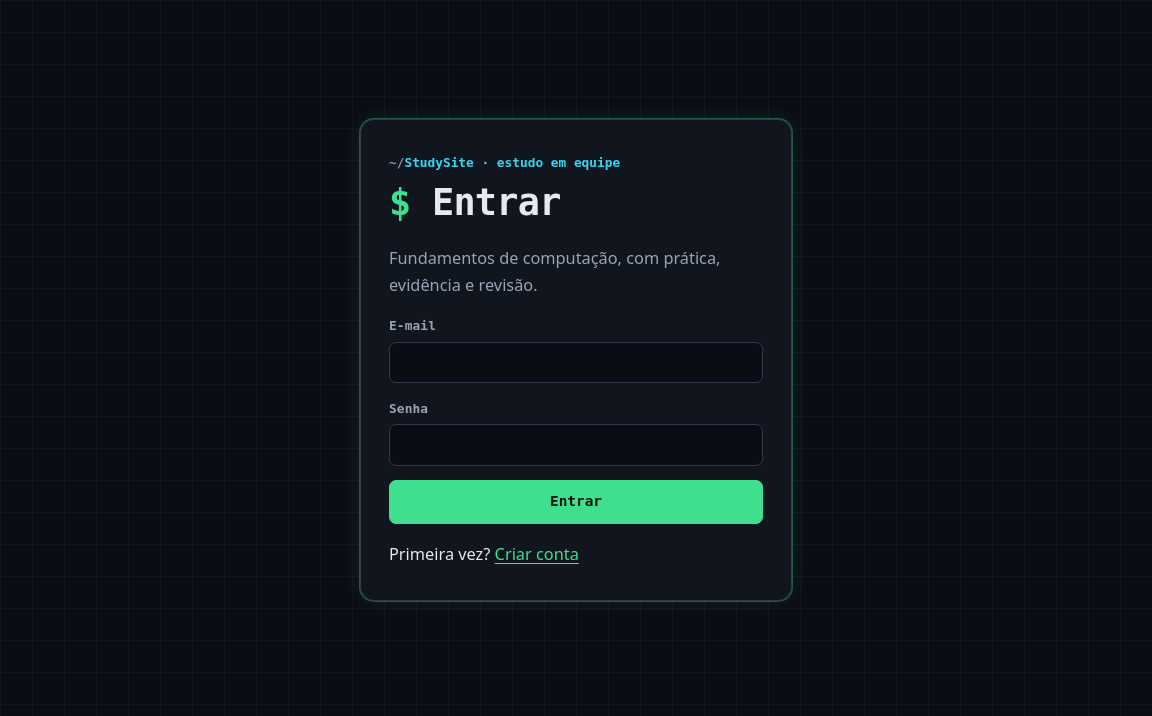
Test: autenticação › entra com e-mail e senha e chega ao painel
In the field labelled "E-mail": (576,362) [389,342,763,383], type "lia@example.test"
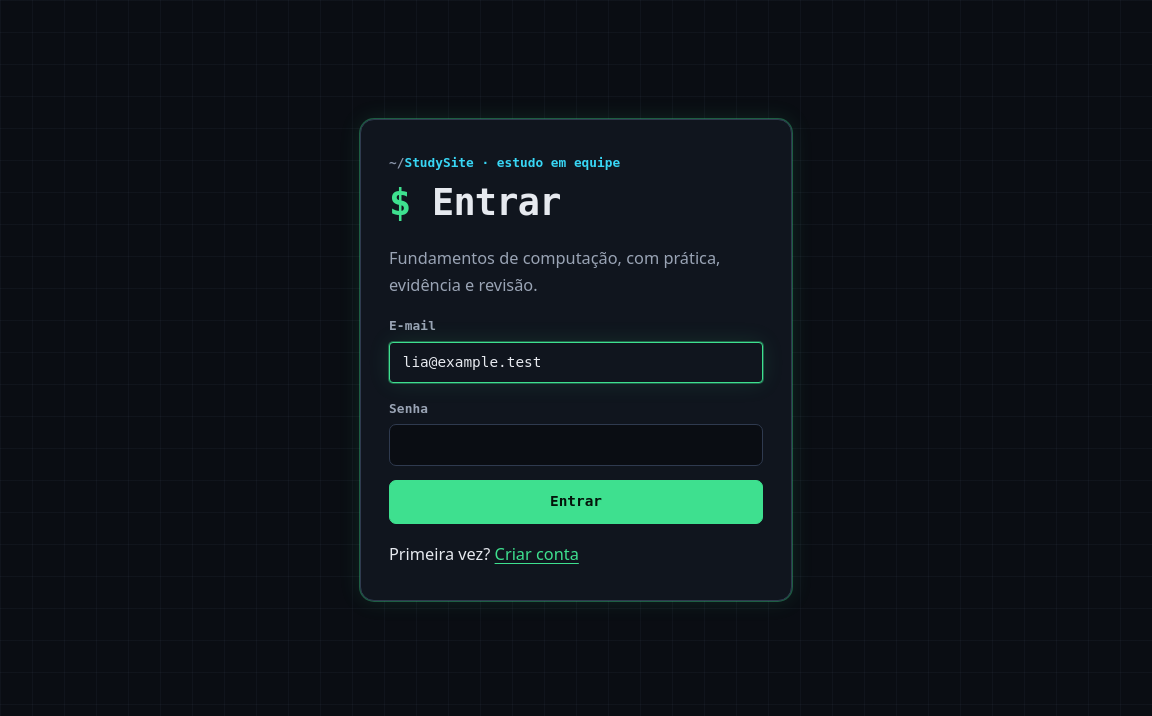
In the password field labelled "Senha": (576,445) [389,424,763,466], type "senha-segura-123"
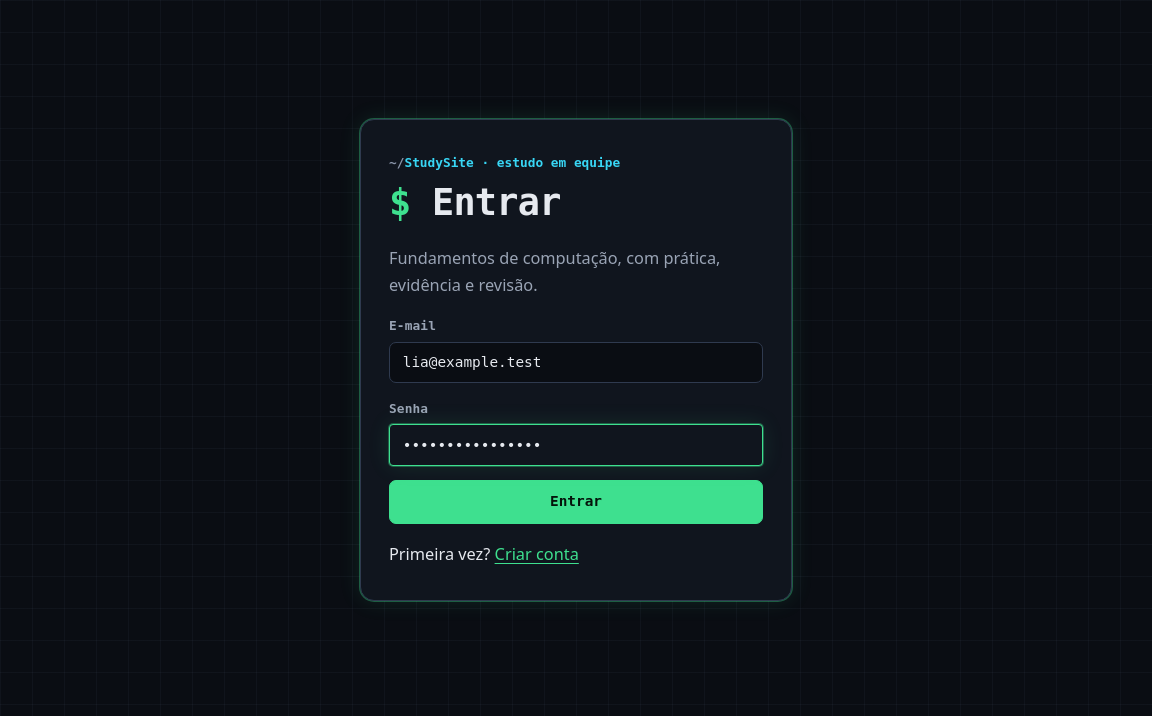
Click the button "Entrar": (576,502) [389,480,763,524]
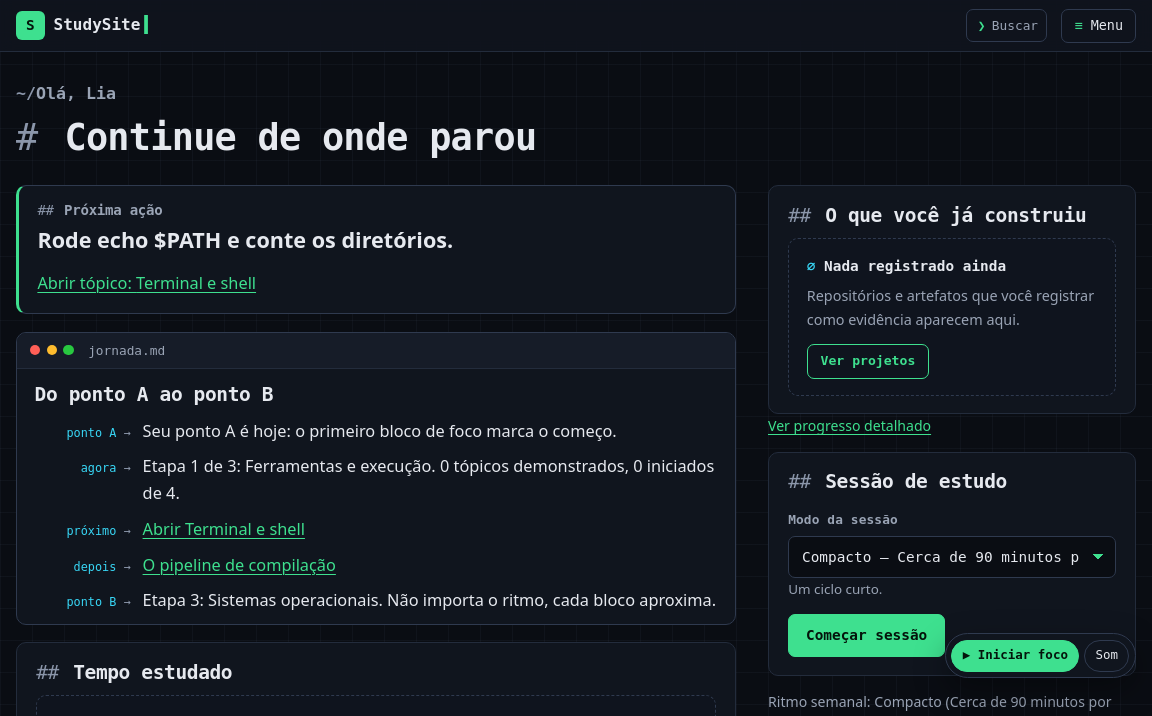
Now the heading "Continue de onde parou" is shown, box [64,116,536,159]
